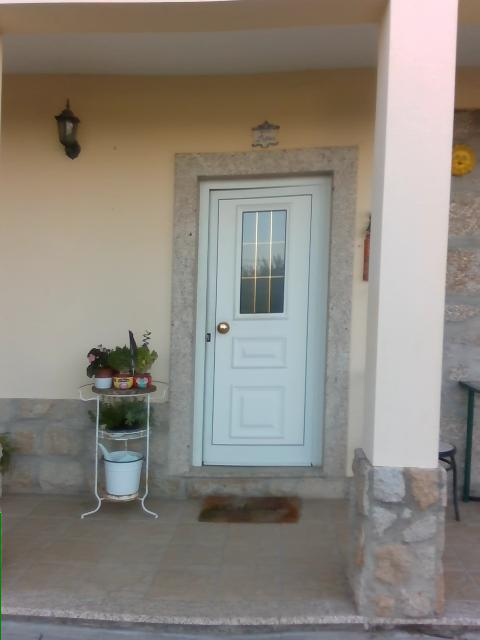door: (190, 171, 334, 467)
